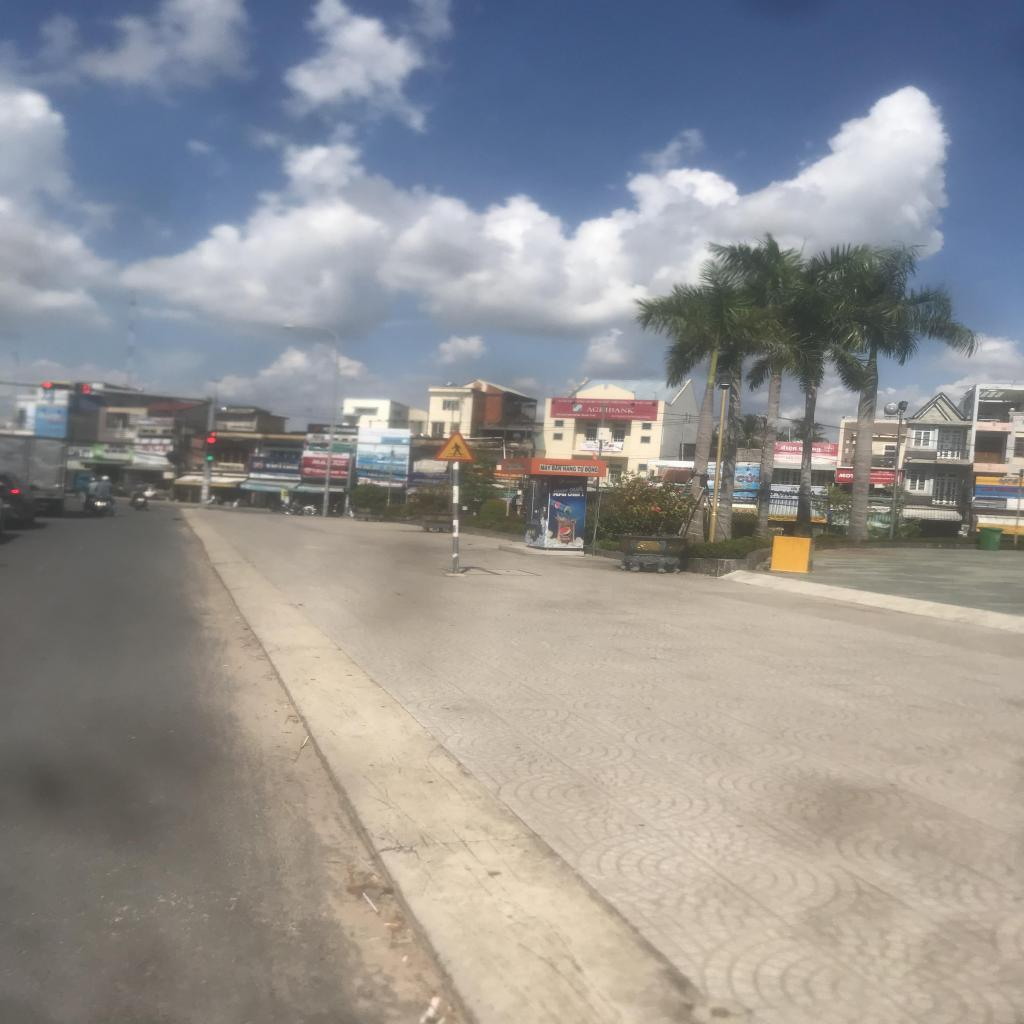chu_y_nguoi_di_bo_cat_ngang: (431, 429, 478, 461)
